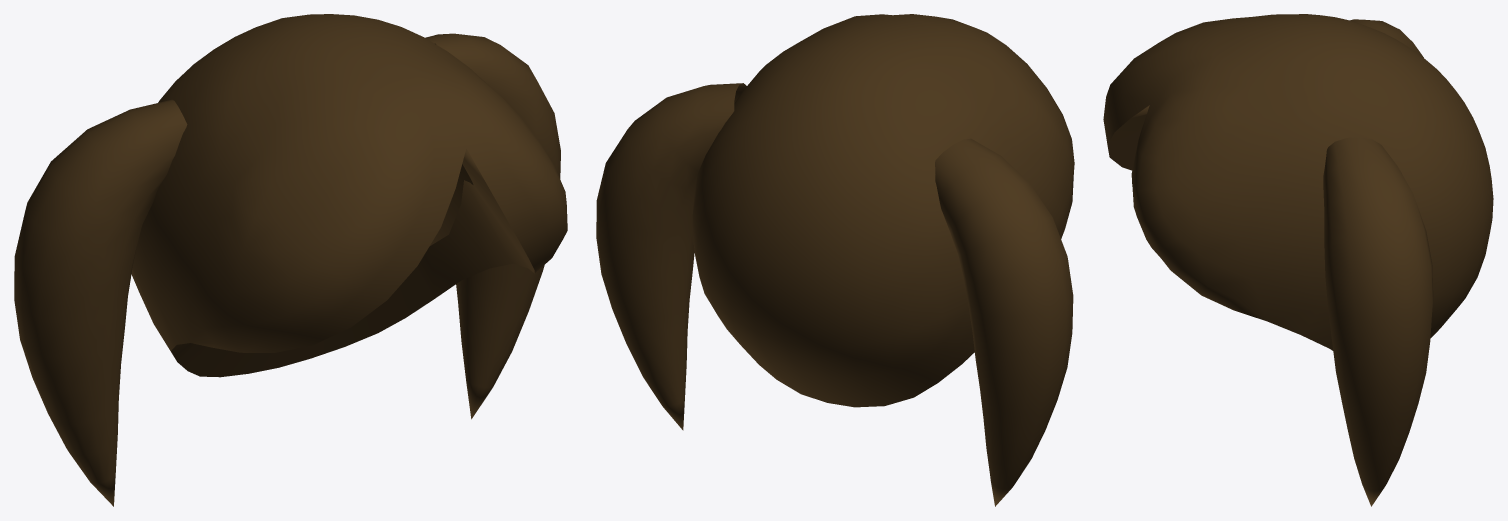
Rendered from hair_033.gltf.
3 views of the same model, side by side, from view 1: azimuth 30°, elevation 25°; view 2: azimuth 150°, elevation 25°; view 3: azimuth 270°, elevation 25° (orthographic). The views are drawn at different scales.
Parts seen in each view (by area): view 1: hair.134; view 2: hair.134; view 3: hair.134.
Part boxes in pixels (left/top/right/bottom): hair.134: left=14, top=14, right=567, bottom=506; hair.134: left=596, top=14, right=1074, bottom=506; hair.134: left=1103, top=14, right=1493, bottom=506.
Size of the model in its own units: 0.1704 by 0.1414 by 0.1244.
